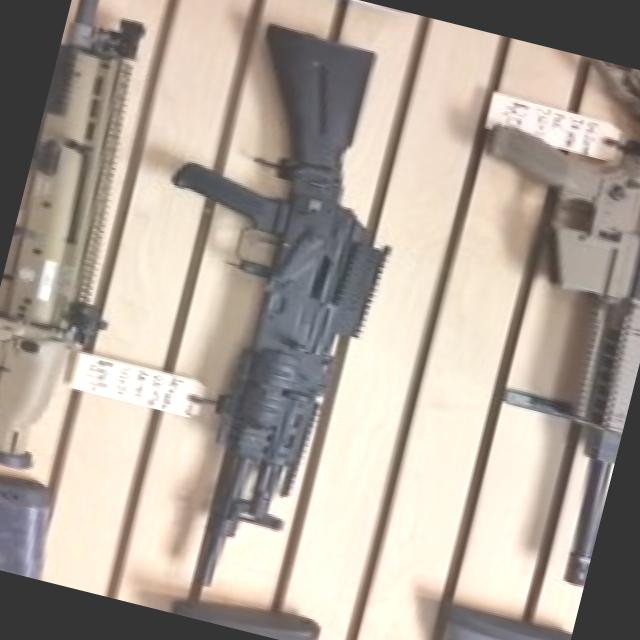long weapon: (69, 0, 451, 639), (0, 0, 184, 563)
